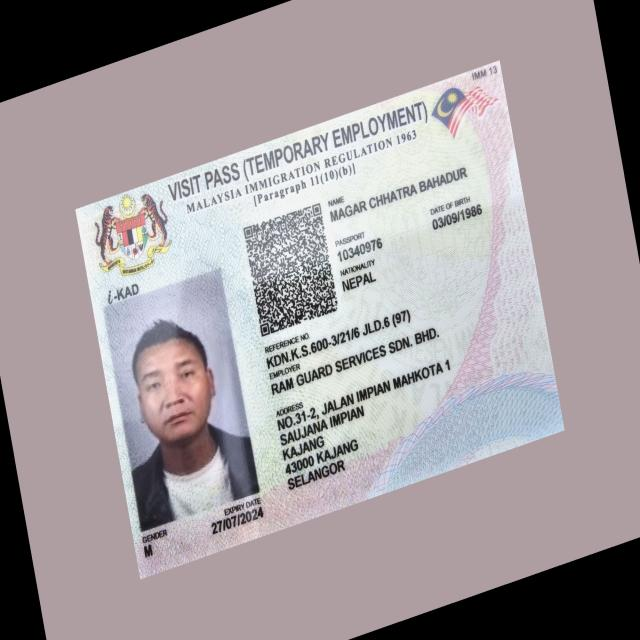ikad-temp: (74, 58, 566, 578)
